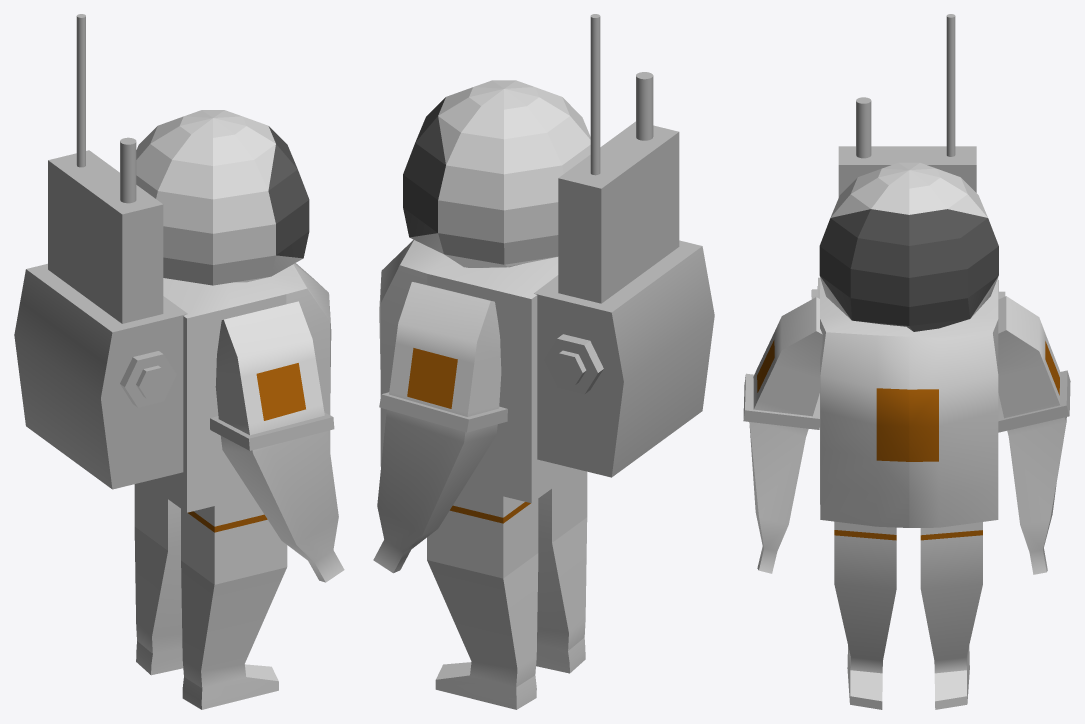
Rendered from astro_square.fbx.
3 views of the same model, side by side, from view 1: azimuth 30°, elevation 25°; view 2: azimuth 150°, elevation 25°; view 3: azimuth 270°, elevation 25° (orthographic). The views are drawn at different scales.
Parts seen in each view (by area): view 1: pCube5, pSphere1, pCube7, pCube2, pCylinder2, pCube6, pCube1, pCube9, pCylinder8, pCylinder3, pCylinder4, pCylinder7; view 2: pCube5, pSphere1, pCube4, pCube1, pCylinder2, pCube6, pCube2, pCube8, pCylinder3, pCylinder5, pCylinder4, pCylinder6; view 3: pCylinder2, pSphere1, pCube7, pCube4, pCube2, pCube1, pCube6, pCube9, pCylinder3, pCube8, pCylinder4.
Part boxes in pixels (x1,y1,x2,y2): pCube5: (14,263,187,489); pSphere1: (136,110,309,285); pCube7: (215,301,344,582); pCube2: (181,496,287,709); pCylinder2: (144,263,331,512); pCube6: (48,150,163,323); pCube1: (134,482,183,675); pCube9: (210,412,334,450); pCylinder8: (120,351,176,407); pCylinder3: (76,14,85,167); pCylinder4: (120,137,136,203); pCylinder7: (136,365,168,398); pCube5: (534,240,714,477); pSphere1: (403,80,590,267); pCube4: (373,282,501,573); pCube1: (427,487,538,709); pCylinder2: (379,239,577,503); pCube6: (558,121,679,303); pCube2: (536,469,587,673); pCube8: (379,392,507,432); pCylinder3: (590,14,600,175); pCylinder5: (544,334,603,394); pCylinder4: (636,72,653,140); pCylinder6: (551,350,586,385); pCylinder2: (820,277,998,527); pSphere1: (819,162,998,331); pCube7: (749,297,822,573); pCube4: (998,296,1066,574); pCube2: (834,521,896,709); pCube1: (920,522,982,709); pCube6: (838,146,976,197); pCube9: (743,373,819,429); pCylinder3: (946,14,955,156); pCube8: (998,370,1070,432); pCylinder4: (856,97,871,158).
Size of the model in its own units: 5.67 by 13.96 by 6.62.
